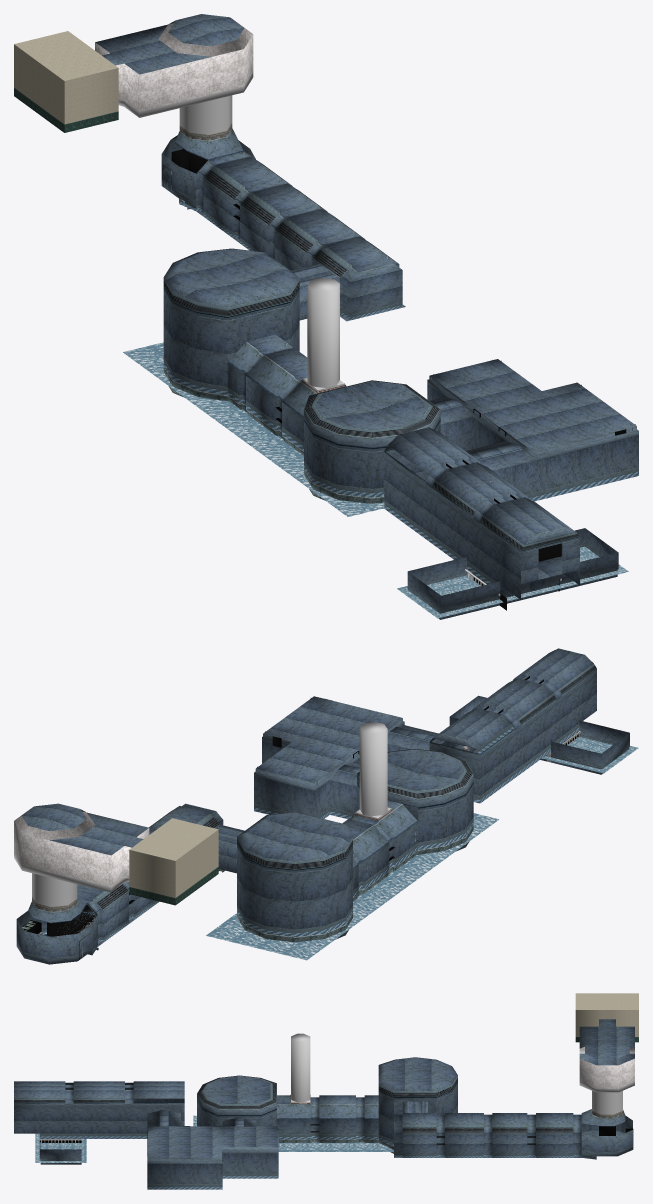
The model's file is ssact3.obj.
3 renders of one model, top to bottom at view 1: azimuth 30°, elevation 25°; view 2: azimuth 150°, elevation 25°; view 3: azimuth 270°, elevation 25°, orthographic. The views are drawn at different scales.
Visible parts, largest first — view 1: object_000CAA08, object_000D6294, object_000CC7C8, object_000CE4B4, object_000CBA48, object_000C8B08, object_000C7E30, object_000D057C, object_000C6E90, object_000D15CC, object_000C65F8, object_000CFC60 (+10 smaller); view 2: object_000CC7C8, object_000CAA08, object_000CE4B4, object_000CBA48, object_000C7E30, object_000C8B08, object_000D6294, object_000CD0E8, object_000D15CC, object_000D057C, object_000C6E90, object_000DA968 (+10 smaller); view 3: object_000CAA08, object_000D6294, object_000C7E30, object_000CC7C8, object_000C8B08, object_000CE4B4, object_000CBA48, object_000C65F8, object_000C6E90, object_000CD0E8, object_000D15CC, object_000CFC60 (+7 smaller).
Part boxes in pixels (left/top/right/bottom): object_000CAA08: left=427, top=359, right=638, bottom=501; object_000D6294: left=196, top=151, right=402, bottom=320; object_000CC7C8: left=163, top=248, right=299, bottom=401; object_000CE4B4: left=95, top=14, right=253, bottom=117; object_000CBA48: left=304, top=380, right=440, bottom=508; object_000C8B08: left=384, top=427, right=579, bottom=553; object_000C7E30: left=384, top=450, right=579, bottom=599; object_000D057C: left=407, top=528, right=618, bottom=619; object_000C6E90: left=228, top=334, right=346, bottom=417; object_000D15CC: left=307, top=278, right=339, bottom=387; object_000C65F8: left=227, top=362, right=303, bottom=455; object_000CFC60: left=64, top=68, right=118, bottom=132; object_000CC7C8: left=237, top=812, right=352, bottom=942; object_000CAA08: left=254, top=696, right=455, bottom=818; object_000CE4B4: left=14, top=803, right=149, bottom=892; object_000CBA48: left=357, top=749, right=473, bottom=854; object_000C7E30: left=429, top=671, right=596, bottom=803; object_000C8B08: left=429, top=648, right=596, bottom=755; object_000D6294: left=47, top=803, right=223, bottom=943; object_000CD0E8: left=16, top=899, right=97, bottom=964; object_000D15CC: left=359, top=722, right=387, bottom=816; object_000D057C: left=449, top=695, right=629, bottom=774; object_000C6E90: left=342, top=800, right=417, bottom=868; object_000DA968: left=206, top=909, right=370, bottom=960; object_000CAA08: left=147, top=1110, right=278, bottom=1189; object_000D6294: left=394, top=1113, right=581, bottom=1157; object_000C7E30: left=14, top=1098, right=184, bottom=1138; object_000CC7C8: left=378, top=1057, right=457, bottom=1153; object_000C8B08: left=14, top=1081, right=184, bottom=1104; object_000CE4B4: left=579, top=1019, right=634, bottom=1092; object_000CBA48: left=197, top=1075, right=276, bottom=1126; object_000C65F8: left=277, top=1117, right=378, bottom=1142; object_000C6E90: left=277, top=1094, right=378, bottom=1118; object_000CD0E8: left=581, top=1109, right=632, bottom=1159; object_000D15CC: left=291, top=1033, right=310, bottom=1102; object_000CFC60: left=575, top=1010, right=638, bottom=1042.
Size of the model in its own units: 246 by 176 by 732.
